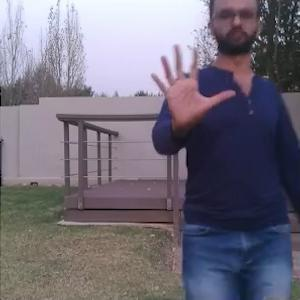follow_hand: (146, 36, 237, 137)
